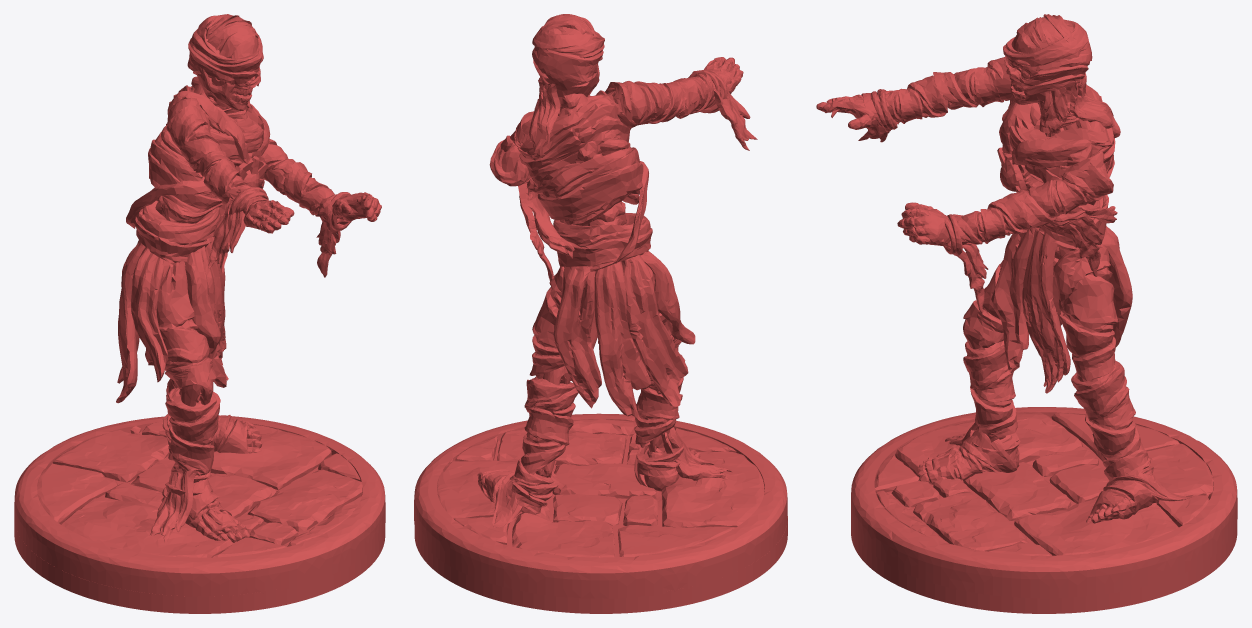
File: mummy.glb
The picture shows the model from 3 angles, left to right: view 1: azimuth 30°, elevation 25°; view 2: azimuth 150°, elevation 25°; view 3: azimuth 270°, elevation 25°; orthographic projection. The views are drawn at different scales.
Parts seen in each view (by area): view 1: mummy; view 2: mummy; view 3: mummy.
Part boxes in pixels (box(x1,y1,x2,y2)): mummy: box(14, 14, 385, 613); mummy: box(414, 14, 787, 613); mummy: box(816, 14, 1237, 613).
Bounding box in the file's own units: 30.38 × 45.99 × 33.09.
